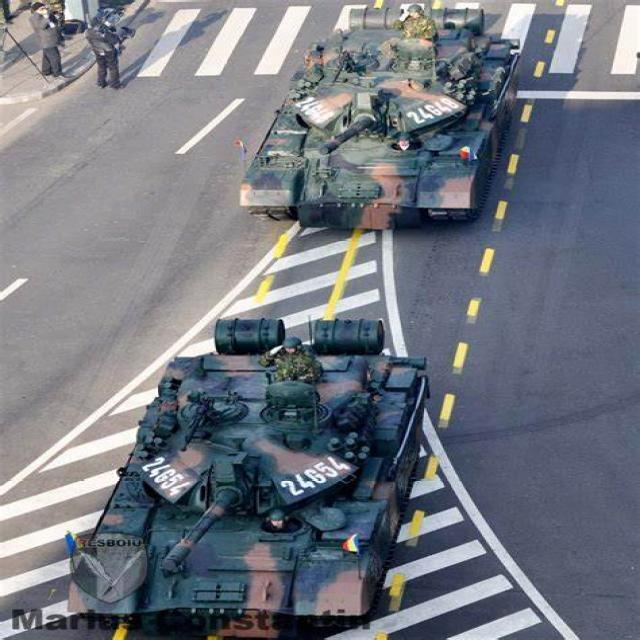Tanks: (59, 302, 446, 625), (229, 10, 524, 226)
